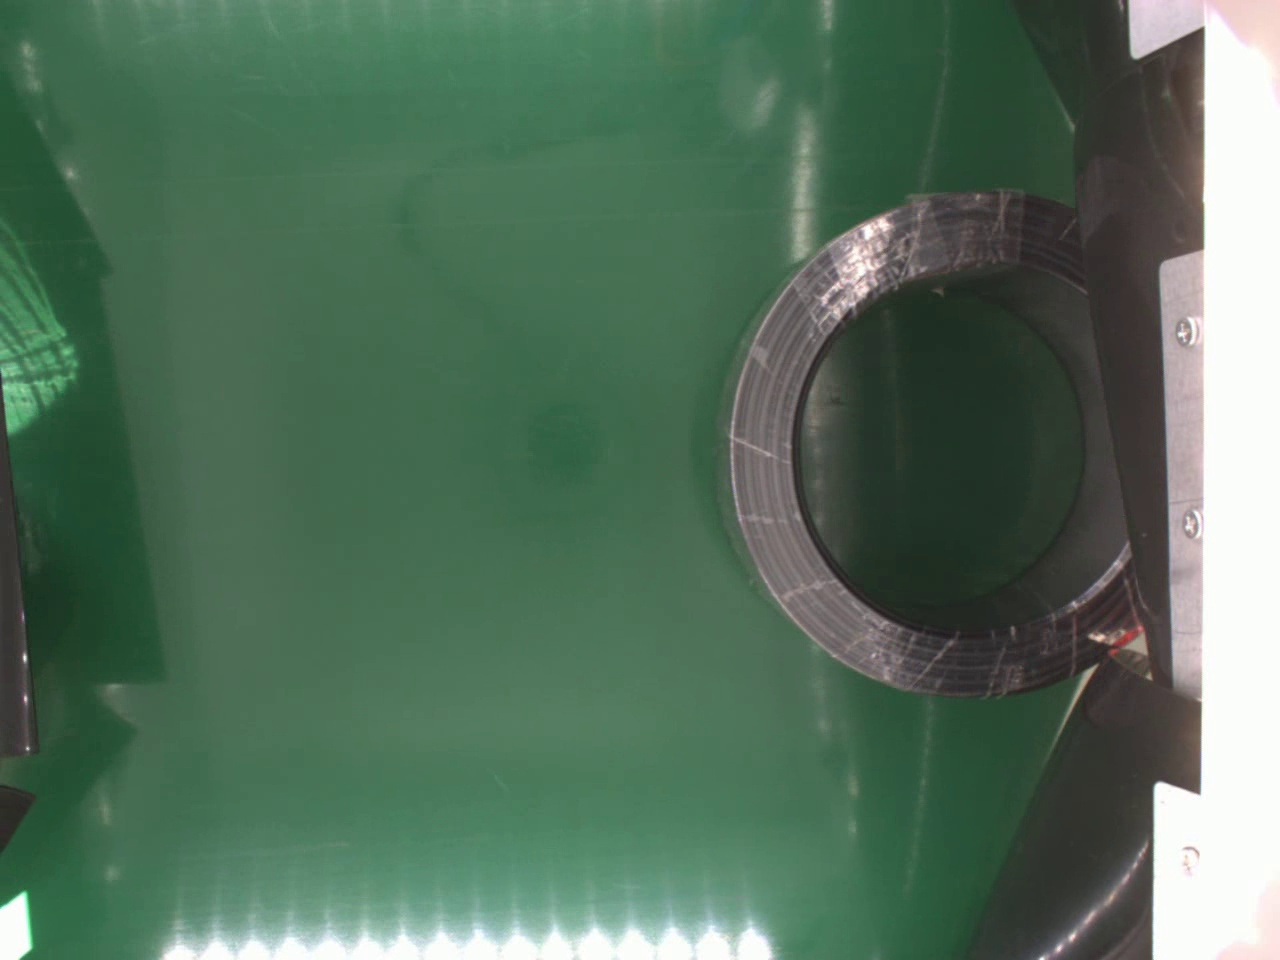black: (712, 188, 1140, 695)
